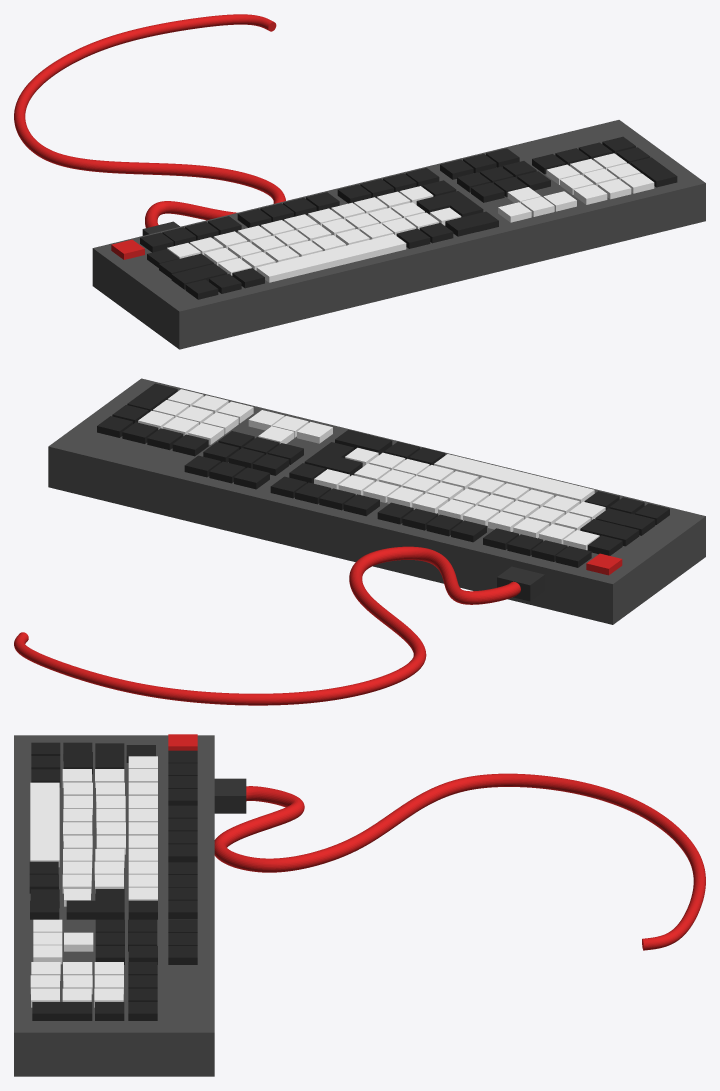
File: TECLADO.glb
3 renders of one model, top to bottom at view 1: azimuth 30°, elevation 25°; view 2: azimuth 150°, elevation 25°; view 3: azimuth 270°, elevation 25°, orthographic. The views are drawn at different scales.
Parts seen in each view (by area): view 1: CUERPO, Tubo, Caja 76, Caja 23; view 2: CUERPO, Tubo, Caja 76, Caja (×2), Caja 9, Caja 1, Caja 16, Caja 5, Caja 13, Caja 41, Caja 36, Caja 17 (+6 smaller); view 3: CUERPO, Tubo, Caja 76, Caja, Caja 23, Caja 12, Caja 43, Caja 42, Caja 46, Caja 38, Caja 44, Caja 8 (+4 smaller).
Part boxes in pixels (bbox=[...]): CUERPO: bbox=[92, 120, 705, 349]; Tubo: bbox=[14, 14, 285, 227]; Caja 76: bbox=[256, 234, 406, 282]; Caja 23: bbox=[639, 164, 677, 187]; CUERPO: bbox=[48, 378, 705, 624]; Tubo: bbox=[14, 546, 520, 705]; Caja 76: bbox=[434, 454, 594, 503]; Caja (×2): bbox=[497, 553, 622, 601]; Caja 9: bbox=[343, 494, 379, 516]; Caja 1: bbox=[555, 546, 591, 567]; Caja 16: bbox=[172, 434, 208, 456]; Caja 5: bbox=[451, 520, 486, 542]; Caja 13: bbox=[234, 467, 269, 489]; Caja 41: bbox=[297, 421, 332, 443]; Caja 36: bbox=[253, 454, 289, 475]; Caja 17: bbox=[147, 428, 183, 450]; CUERPO: bbox=[14, 735, 214, 1076]; Tubo: bbox=[214, 773, 705, 950]; Caja 76: bbox=[30, 782, 59, 867]; Caja: bbox=[214, 778, 246, 813]; Caja 23: bbox=[32, 1002, 70, 1020]; Caja 12: bbox=[168, 900, 197, 919]; Caja 43: bbox=[95, 900, 124, 919]; Caja 42: bbox=[128, 900, 157, 919]; Caja 46: bbox=[30, 900, 59, 919]; Caja 38: bbox=[64, 932, 93, 951]; Caja 44: bbox=[66, 900, 95, 919]; Caja 8: bbox=[168, 844, 197, 862].
Bounding box in the file's own units: 2.21 × 0.1772 × 2.17.
